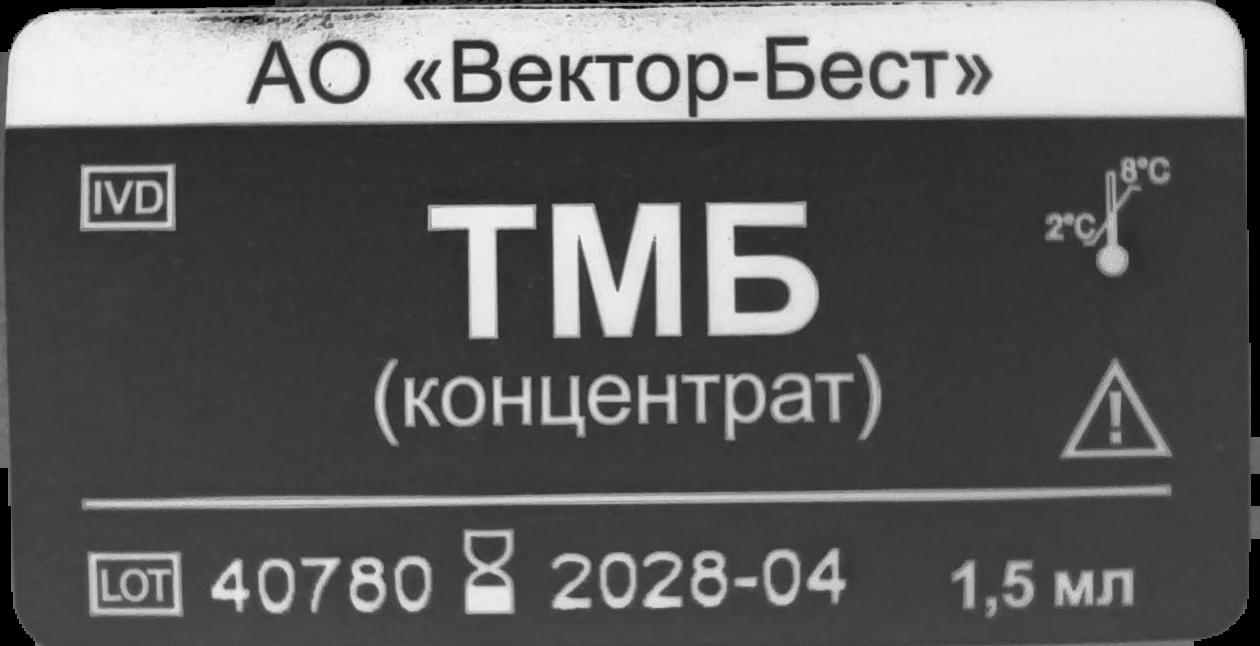something: (1041, 154, 1180, 288), (1052, 348, 1181, 467), (69, 152, 183, 243), (88, 554, 187, 622), (460, 526, 521, 617)
text: (367, 194, 891, 451), (225, 37, 1001, 121), (548, 546, 857, 619), (207, 551, 440, 627), (949, 549, 1138, 618)
